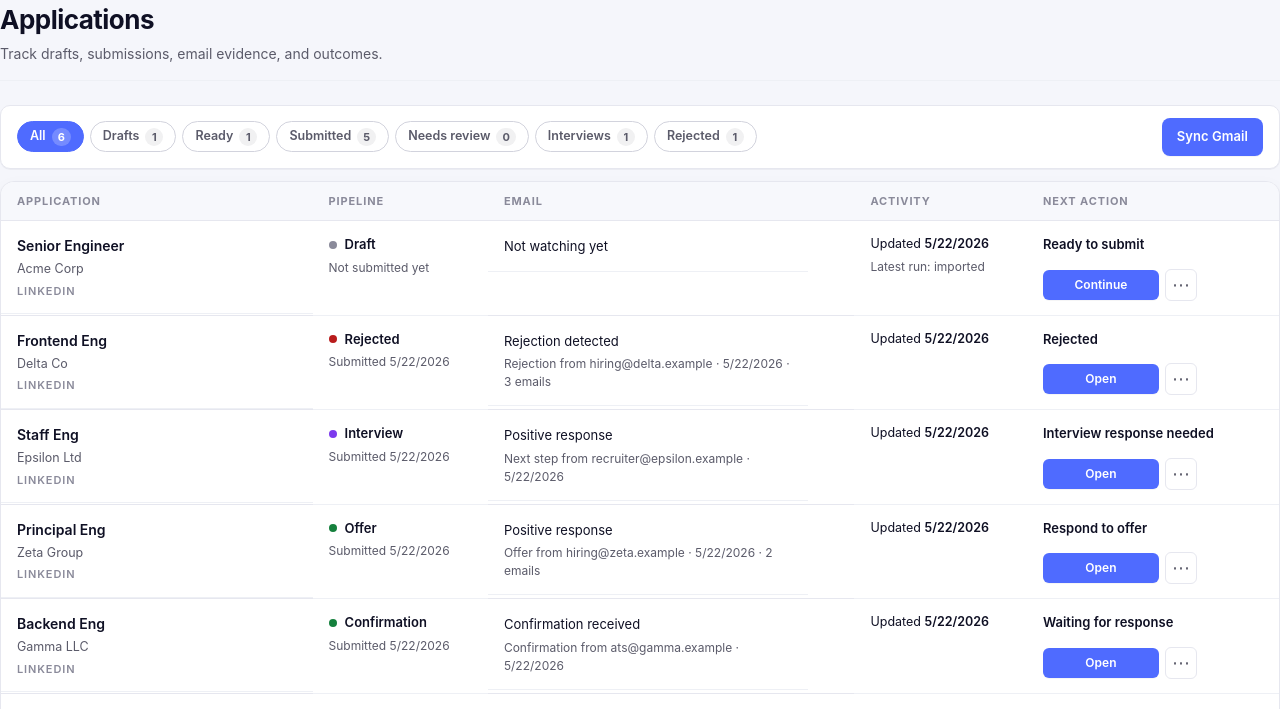
Test: ApplicationsPage › filters rows when a filter pill is selected
This screenshot has width=1280, height=709.
Step 1. Click the button "Rejected 1" → (705, 137), box [654, 121, 757, 152]
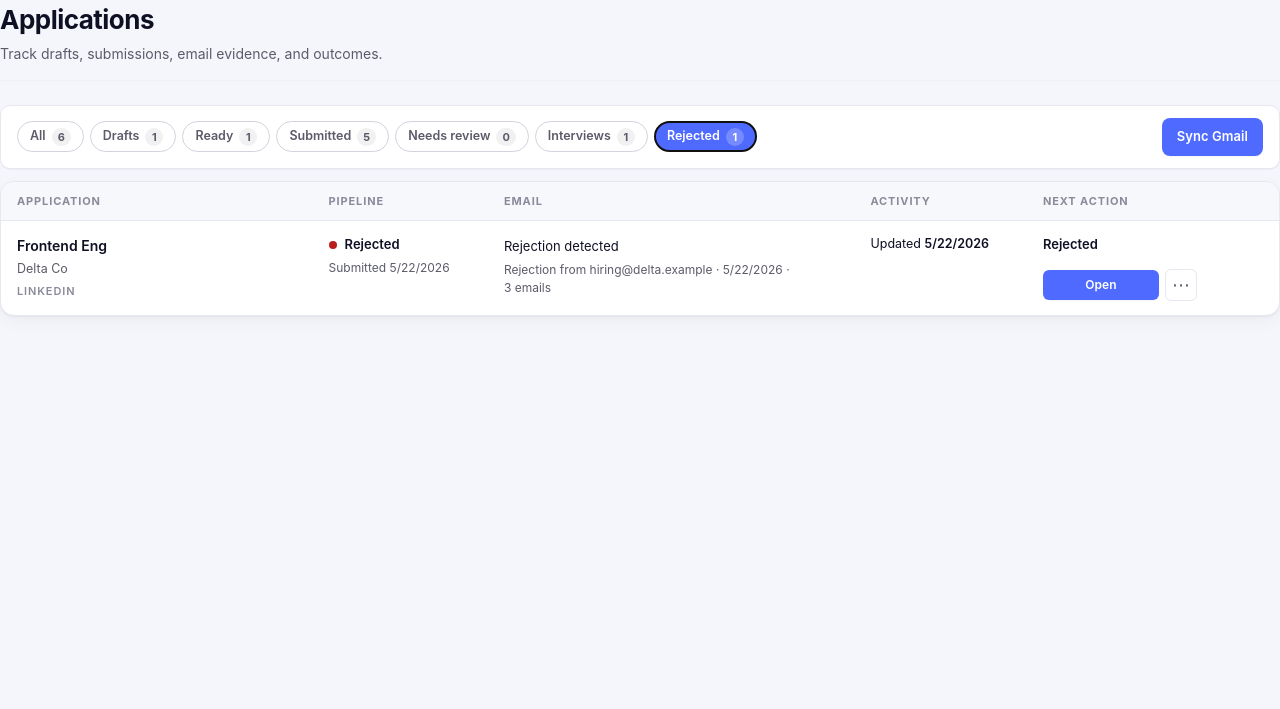
Expected: the link "Frontend Eng" is shown, [17, 237, 107, 254]
Expected: the link "Senior Engineer" is gone
